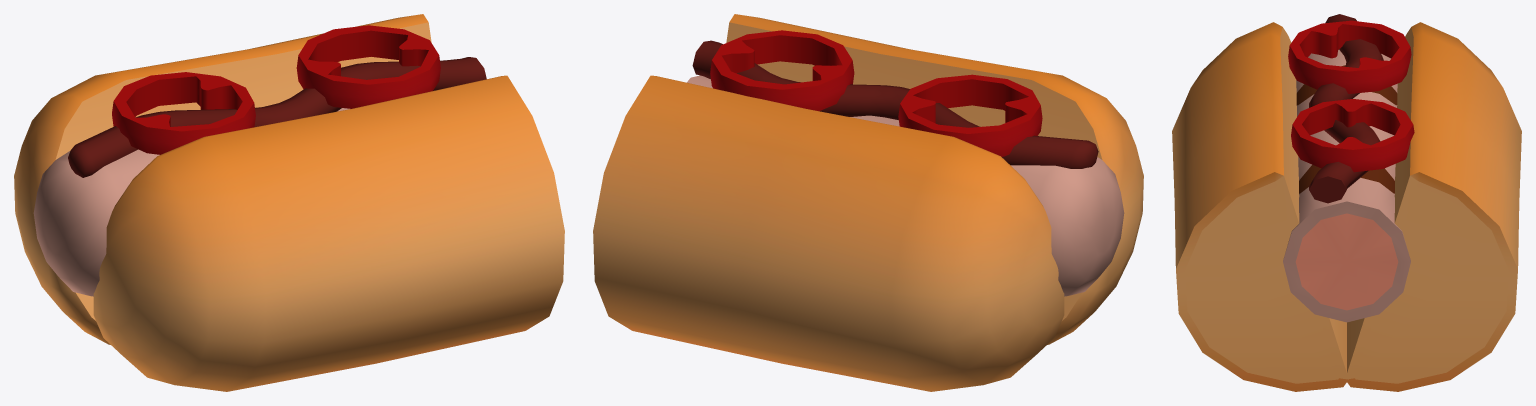
The model's file is HotDog_bun_half_02.fbx.
The picture shows the model from 3 angles, left to right: view 1: azimuth 30°, elevation 25°; view 2: azimuth 150°, elevation 25°; view 3: azimuth 270°, elevation 25°; orthographic projection. The views are drawn at different scales.
Visible parts, largest first — view 1: HotDog_bun_half_02; view 2: HotDog_bun_half_02; view 3: HotDog_bun_half_02.
Part boxes in pixels (box(x1,y1,x2,y2)): HotDog_bun_half_02: box(14, 14, 564, 391); HotDog_bun_half_02: box(593, 14, 1143, 391); HotDog_bun_half_02: box(1172, 14, 1521, 391).
Bounding box in the file's own units: 79.77 × 67.97 × 49.74.
